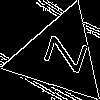Z: (34, 31, 88, 74)
